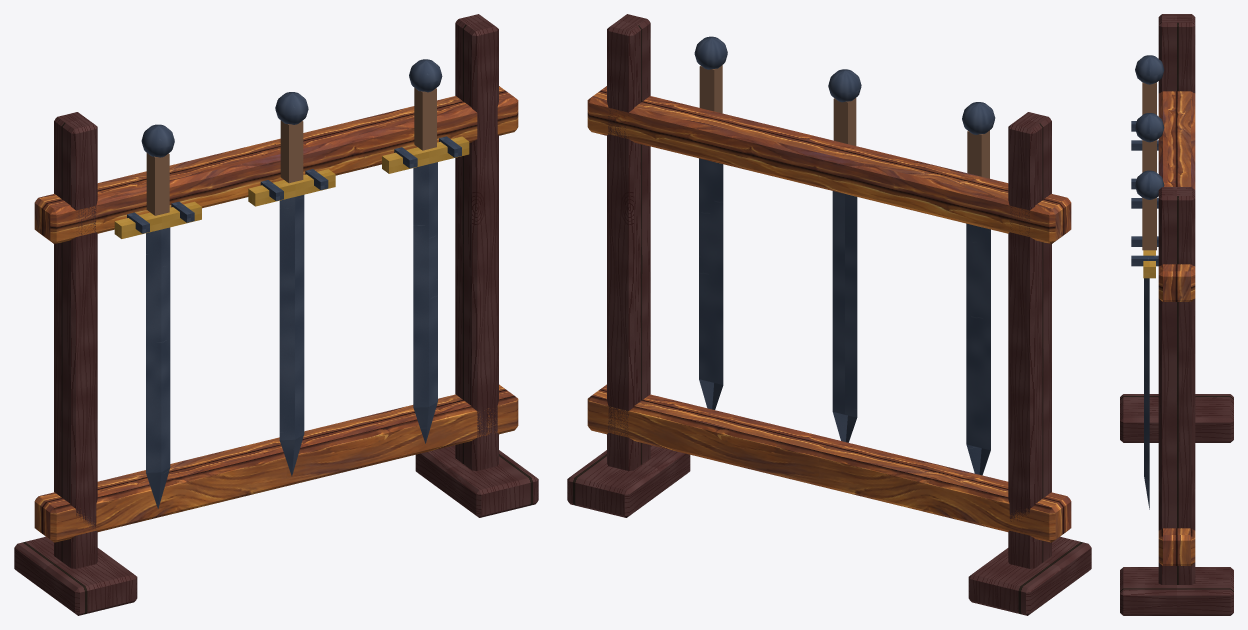
Rendered from Weapon_Rack.fbx.
3 views of the same model, side by side, from view 1: azimuth 30°, elevation 25°; view 2: azimuth 150°, elevation 25°; view 3: azimuth 270°, elevation 25° (orthographic). The views are drawn at different scales.
Parts seen in each view (by area): view 1: Rack support rail.002, Rack upright.003, Rack upright.002, Rack support rail.003, Forged blade with central ridge.001, Forged blade with central ridge, Forged blade with central ridge.002, Rack braced foot.002, Rack braced foot.003, Wrapped sword grip.001, Wrapped sword grip, Wrapped sword grip.002 (+6 smaller); view 2: Rack support rail.003, Rack support rail.002, Rack upright.003, Rack upright.002, Forged blade with central ridge.001, Forged blade with central ridge, Forged blade with central ridge.002, Rack braced foot.002, Rack braced foot.003, Wrapped sword grip.001, Wrapped sword grip.002, Wrapped sword grip (+3 smaller); view 3: Rack upright.003, Rack braced foot.003, Rack support rail.003, Rack braced foot.002, Rack upright.002, Rack support rail.002, Forged blade with central ridge.002, Wrapped sword grip.002, Sword pommel, Sword pommel.001, Sword pommel.002, Wrapped sword grip (+3 smaller).
Boxes of the visible parts, x1,y1,x2,y2 form: Rack support rail.002: (34,384,518,542); Rack upright.003: (455,14,498,470); Rack upright.002: (54,112,97,568); Rack support rail.003: (34,86,518,244); Forged blade with central ridge.001: (279,195,304,476); Forged blade with central ridge: (146,227,170,508); Forged blade with central ridge.002: (413,162,437,443); Rack braced foot.002: (14,536,137,615); Rack braced foot.003: (415,445,538,517); Wrapped sword grip.001: (280,120,303,183); Wrapped sword grip: (146,153,169,215); Wrapped sword grip.002: (414,88,436,150); Rack support rail.003: (587,86,1071,244); Rack support rail.002: (587,384,1071,542); Rack upright.003: (607,14,650,470); Rack upright.002: (1008,112,1051,568); Forged blade with central ridge.001: (832,191,857,442); Forged blade with central ridge: (966,223,990,475); Forged blade with central ridge.002: (699,158,723,409); Rack braced foot.002: (968,536,1091,615); Rack braced foot.003: (567,445,690,517); Wrapped sword grip.001: (833,98,856,145); Wrapped sword grip.002: (699,65,722,113); Wrapped sword grip: (967,130,989,178); Rack upright.003: (1158,187,1195,584); Rack braced foot.003: (1120,567,1233,615); Rack support rail.003: (1158,91,1195,301); Rack braced foot.002: (1120,394,1233,442); Rack upright.002: (1158,14,1195,92); Rack support rail.002: (1158,528,1195,565); Forged blade with central ridge.002: (1144,278,1149,509); Wrapped sword grip.002: (1142,198,1156,250); Sword pommel: (1135,55,1164,84); Sword pommel.001: (1135,113,1164,142); Sword pommel.002: (1135,170,1164,199); Wrapped sword grip: (1142,82,1156,114).
Size of the model in its own units: 210 by 200 by 50.
